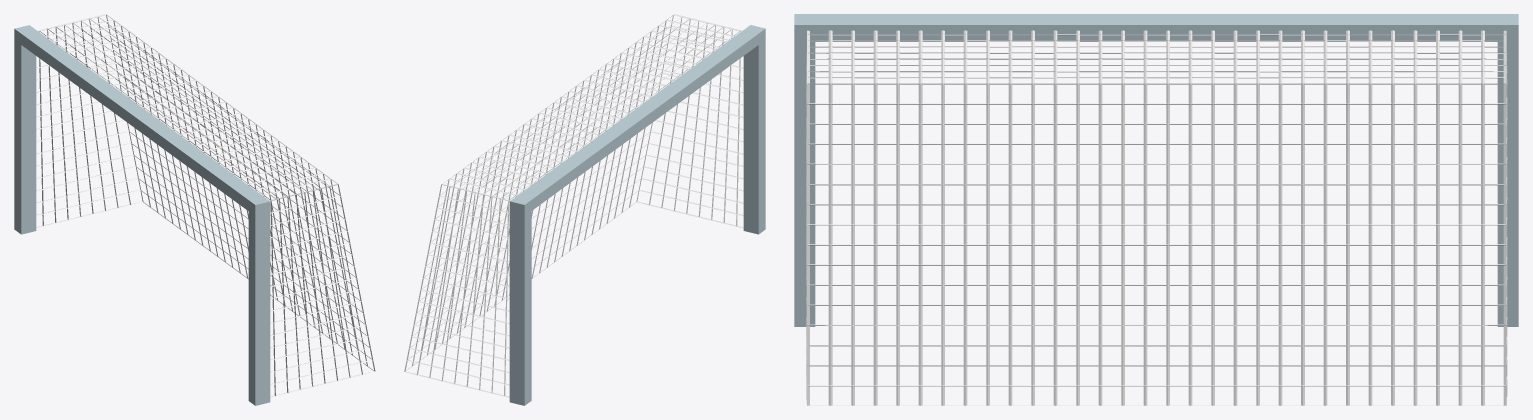
File: court_goal.fbx
The picture shows the model from 3 angles, left to right: view 1: azimuth 30°, elevation 25°; view 2: azimuth 150°, elevation 25°; view 3: azimuth 270°, elevation 25°; orthographic projection. The views are drawn at different scales.
Visible parts, largest first — view 1: SM_CourtGoal; view 2: SM_CourtGoal; view 3: SM_CourtGoal.
Boxes of the visible parts, x1,y1,x2,y2 form: SM_CourtGoal: (14, 14, 375, 405); SM_CourtGoal: (404, 14, 765, 405); SM_CourtGoal: (794, 14, 1518, 405).
Bounding box in the file's own units: 1.07 × 1.64 × 3.58.
1 material, 1 textured.
